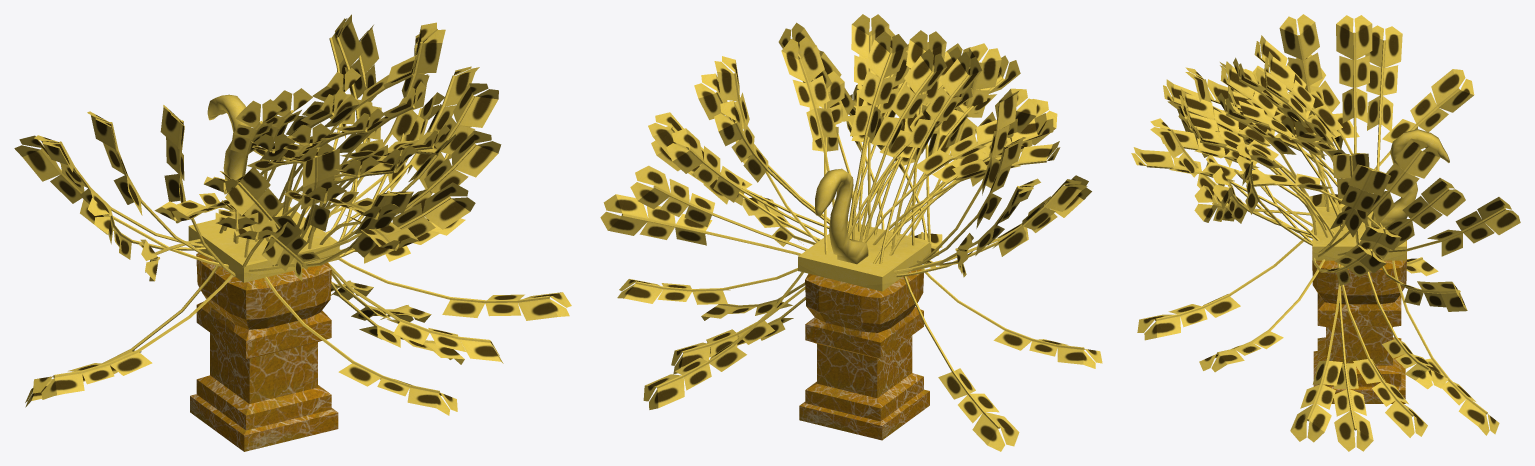
File: peacockstatuetestthree.fbx
3 views of the same model, side by side, from view 1: azimuth 30°, elevation 25°; view 2: azimuth 150°, elevation 25°; view 3: azimuth 270°, elevation 25° (orthographic). The views are drawn at different scales.
Parts seen in each view (by area): view 1: Cube, Proper Pedestal, Cylinder.038, Cylinder.014, Cylinder.052, Cylinder.011, Cylinder.009, Cylinder.025, Cylinder.002, Cylinder.049, Cylinder.003, Cylinder.010 (+39 smaller); view 2: Cube, Proper Pedestal, Cylinder.048, Cylinder.030, Cylinder.050, Cylinder.039, Cylinder.046, Cylinder.006, Cylinder.005, Cylinder.021, Cube.001, Cylinder.037 (+32 smaller); view 3: Cube, Cylinder.008, Cylinder.026, Cylinder.036, Cylinder.002, Cylinder.003, Cylinder.019, Cylinder.046, Cylinder.047, Cylinder.021, Cylinder.025, Cylinder.033 (+34 smaller).
Boxes of the visible parts, box(x1,y1,x2,y2) form: Cube: box(190, 253, 338, 451); Proper Pedestal: box(188, 203, 339, 282); Cylinder.038: box(338, 258, 571, 320); Cylinder.014: box(248, 182, 475, 271); Cylinder.052: box(331, 83, 498, 245); Cylinder.011: box(314, 130, 501, 254); Cylinder.009: box(33, 274, 233, 399); Cylinder.025: box(264, 276, 457, 415); Cylinder.002: box(14, 135, 228, 267); Cylinder.049: box(328, 22, 445, 217); Cylinder.003: box(328, 262, 503, 363); Cylinder.010: box(225, 166, 301, 254); Cube: box(799, 269, 929, 440); Proper Pedestal: box(798, 221, 931, 291); Cylinder.048: box(600, 194, 801, 255); Cylinder.030: box(850, 31, 908, 239); Cylinder.050: box(781, 36, 837, 206); Cylinder.039: box(904, 276, 1019, 451); Cylinder.046: box(630, 165, 807, 250); Cylinder.006: box(859, 49, 946, 241); Cylinder.005: box(891, 52, 982, 254); Cylinder.021: box(666, 128, 823, 235); Cube.001: box(815, 168, 868, 264); Cylinder.037: box(643, 272, 803, 409); Cube: box(1312, 240, 1406, 403); Cylinder.008: box(1336, 15, 1372, 153); Cylinder.026: box(1365, 25, 1402, 170); Cylinder.036: box(1333, 282, 1373, 451); Cylinder.002: box(1373, 69, 1474, 170); Cylinder.003: box(1290, 265, 1343, 442); Cylinder.019: box(1318, 138, 1440, 257); Cylinder.046: box(1388, 197, 1520, 256); Cylinder.047: box(1279, 14, 1326, 206); Cylinder.021: box(1337, 178, 1465, 255); Cylinder.025: box(1137, 229, 1312, 340); Cylinder.033: box(1337, 263, 1427, 437).
Size of the model in its own units: 170 by 129 by 139.
